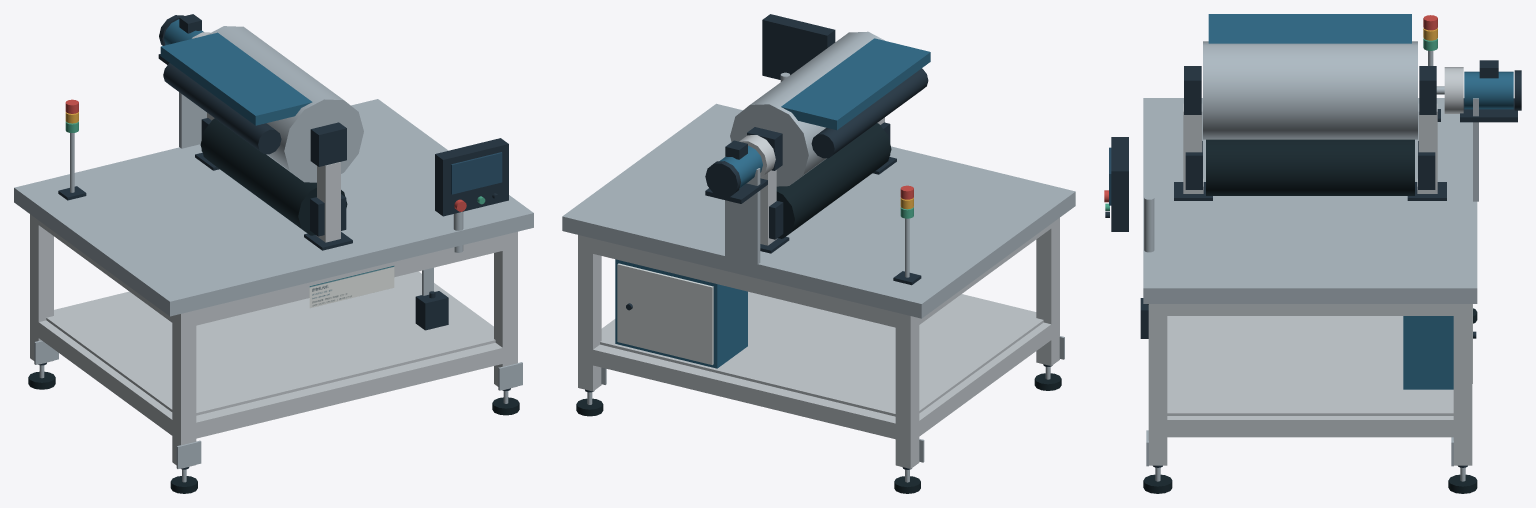
Rendered from fabric-calender-cell.glb.
3 views of the same model, side by side, from view 1: azimuth 30°, elevation 25°; view 2: azimuth 150°, elevation 25°; view 3: azimuth 270°, elevation 25° (orthographic). The views are drawn at different scales.
Visible parts, largest first — view 1: ClosedMachineBed_28, LowerShelf_29, SlottedExtrusion_22, FluidTray_71, WorkingCylinder_48, CounterRoll_63, SlottedExtrusion_23, SlottedExtrusion_8, SlottedExtrusion_24, ConsoleBack_34, SlottedExtrusion_18, MeteringRoll_70 (+11 smaller); view 2: ClosedMachineBed_28, LowerShelf_29, BackDoor_31, SlottedExtrusion_20, FluidTray_71, WorkingCylinder_48, CounterRoll_63, SlottedExtrusion_21, SlottedExtrusion_3, Cabinet_30, ConsoleBack_34, SlottedExtrusion_13 (+11 smaller); view 3: ClosedMachineBed_28, LowerShelf_29, WorkingCylinder_48, CounterRoll_63, SlottedExtrusion_26, FluidTray_71, Cabinet_30, SlottedExtrusion_27, SlottedExtrusion_18, SlottedExtrusion_13, MotorBody_56, ConsoleBack_34 (+12 smaller).
Boxes of the visible parts, x1,y1,x2,y2 form: ClosedMachineBed_28: (14,99,533,316); LowerShelf_29: (46,272,495,415); SlottedExtrusion_22: (190,342,510,438); FluidTray_71: (160,32,312,125); WorkingCylinder_48: (206,26,363,182); CounterRoll_63: (200,118,347,235); SlottedExtrusion_23: (188,234,510,327); SlottedExtrusion_8: (172,310,196,468); SlottedExtrusion_24: (34,319,176,438); ConsoleBack_34: (435,138,508,216); SlottedExtrusion_18: (494,231,517,389); MeteringRoll_70: (163,63,281,154); ClosedMachineBed_28: (562,103,1075,318); LowerShelf_29: (600,291,1043,416); BackDoor_31: (617,263,713,364); SlottedExtrusion_20: (585,344,903,440); FluidTray_71: (781,38,930,130); WorkingCylinder_48: (730,31,885,186); CounterRoll_63: (776,123,891,238); SlottedExtrusion_21: (585,237,903,329); SlottedExtrusion_3: (895,312,919,468); Cabinet_30: (615,259,747,368); ConsoleBack_34: (762,14,835,79); SlottedExtrusion_13: (578,235,601,391); ClosedMachineBed_28: (1143,98,1477,303); LowerShelf_29: (1167,316,1453,415); WorkingCylinder_48: (1203,41,1417,139); CounterRoll_63: (1206,139,1414,195); SlottedExtrusion_26: (1158,416,1462,437); FluidTray_71: (1208,14,1411,43); Cabinet_30: (1403,316,1453,389); SlottedExtrusion_27: (1158,304,1462,315); SlottedExtrusion_18: (1148,304,1167,465); SlottedExtrusion_13: (1453,304,1472,465); MotorBody_56: (1464,71,1513,109); ConsoleBack_34: (1111,137,1128,231).
Bounding box in the file's own units: 1.55 × 1.36 × 1.44.
11 materials, 1 textured.
